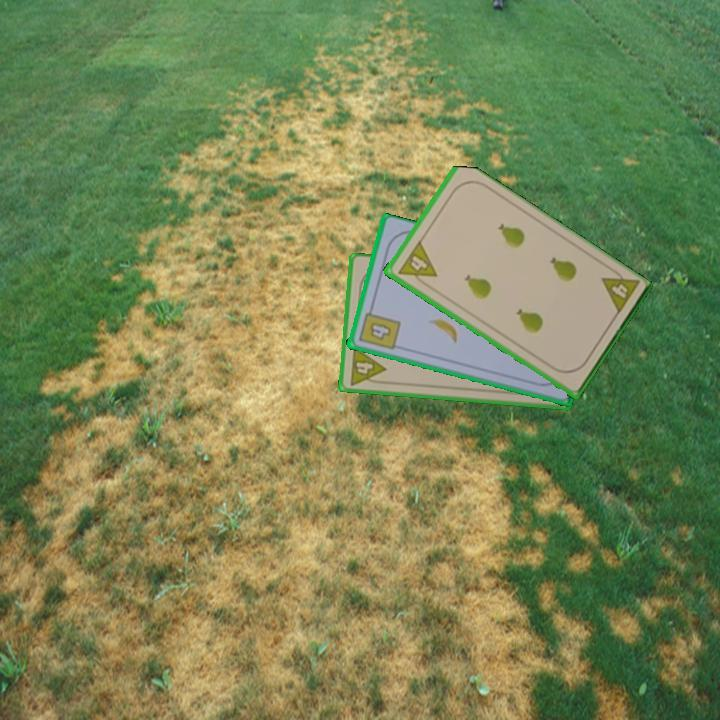4b: (355, 303, 403, 353)
4p: (597, 263, 642, 318), (394, 238, 439, 290), (346, 343, 388, 388)
